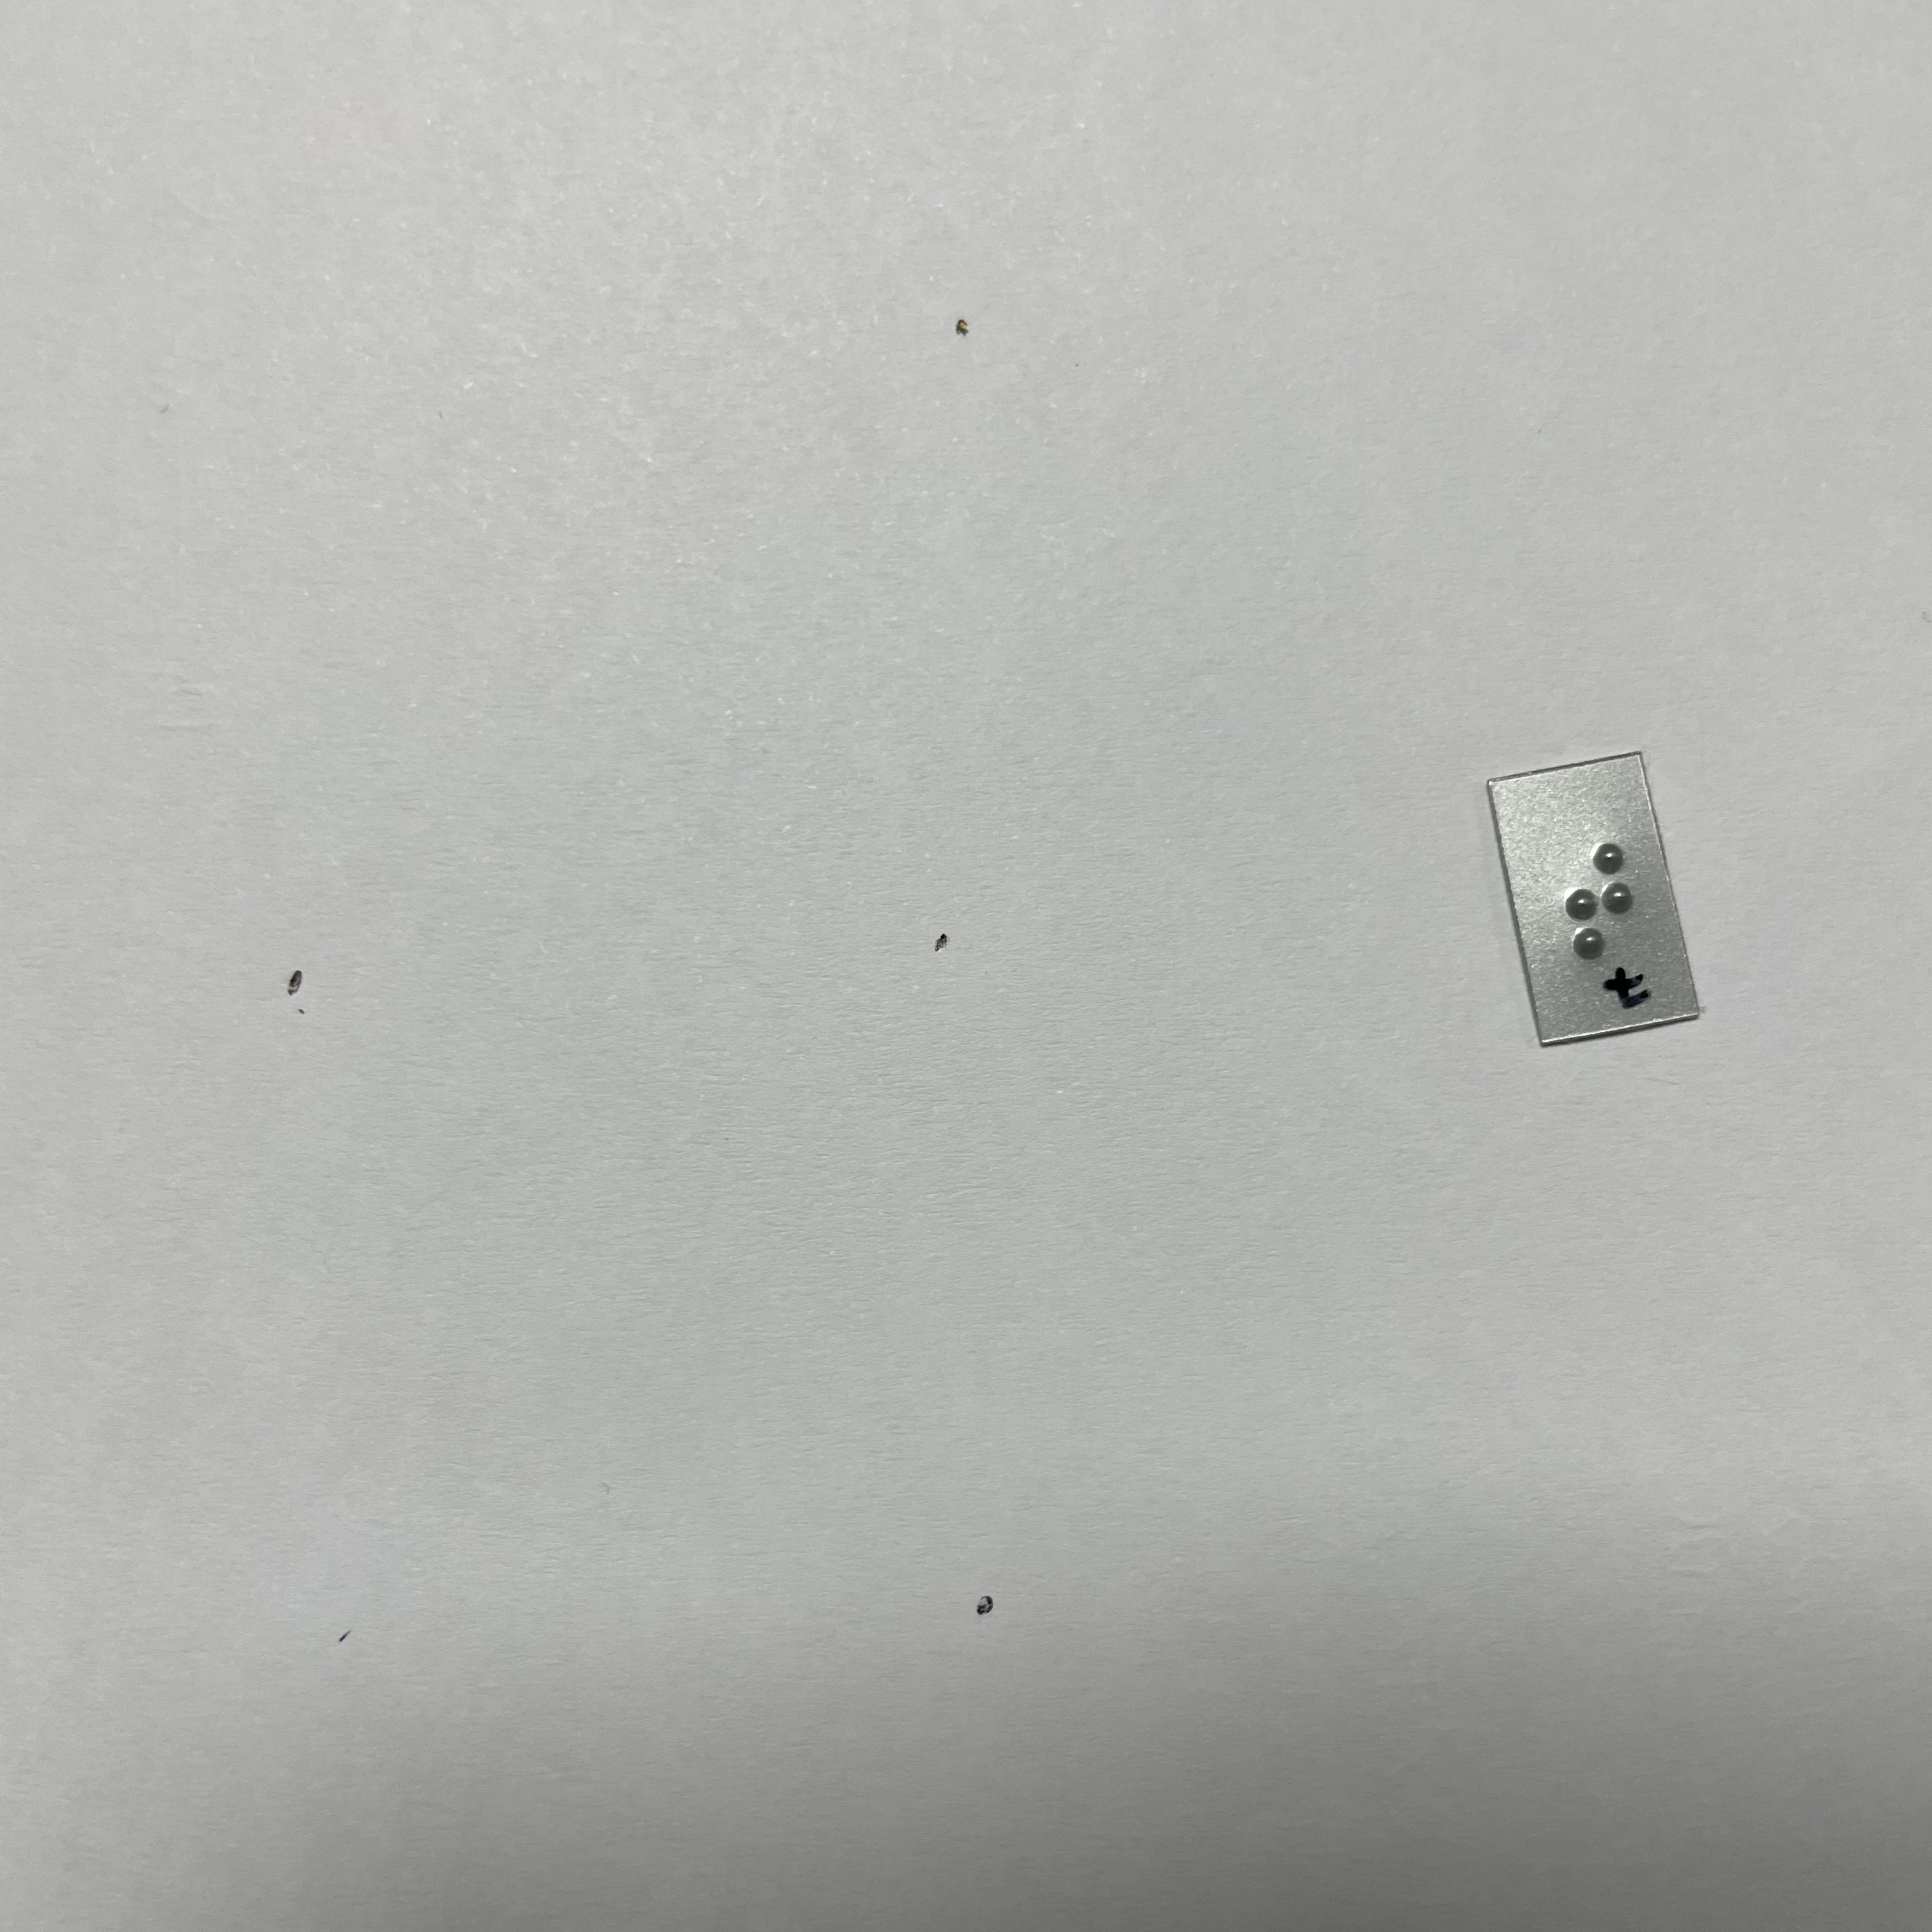t: (1557, 833, 1650, 973)
